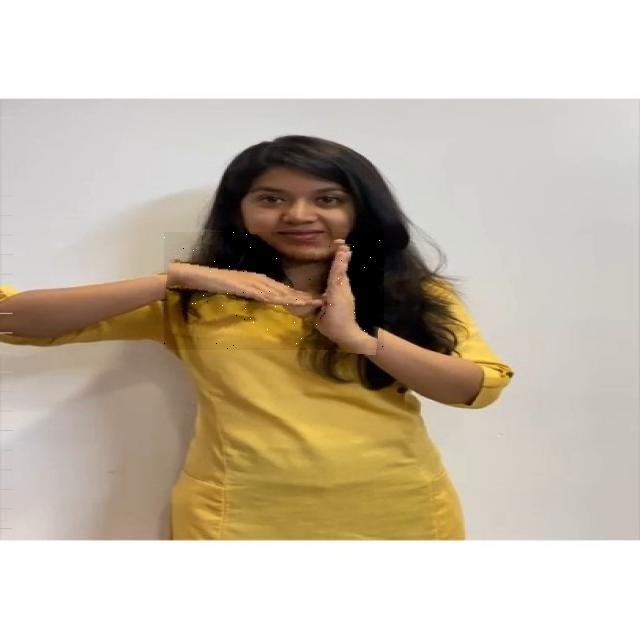Z: (164, 232, 384, 350)
